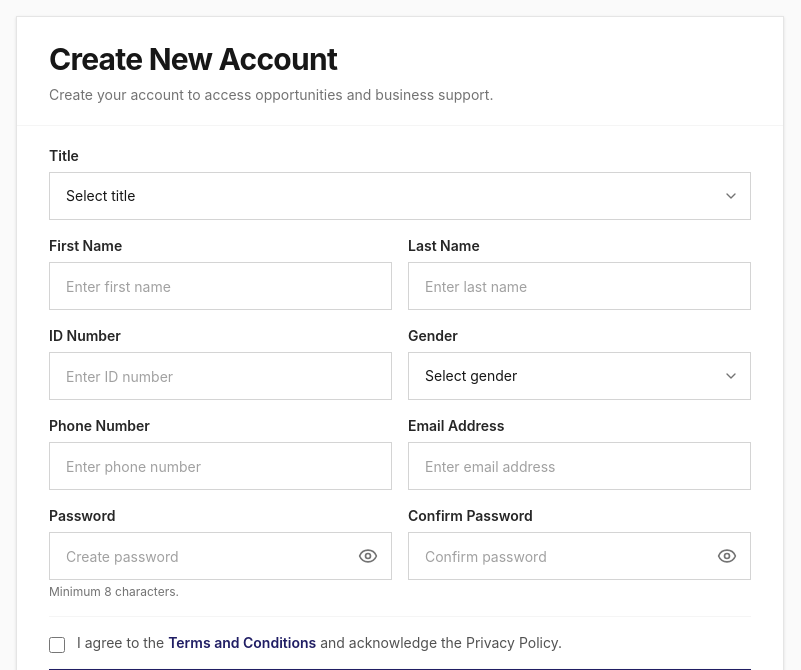
Test case: CreateAccount Component › should display a message when passwords match
Step 1. Type "Password123" into the password field labelled "Password" → (220, 556), box [49,532,392,580]
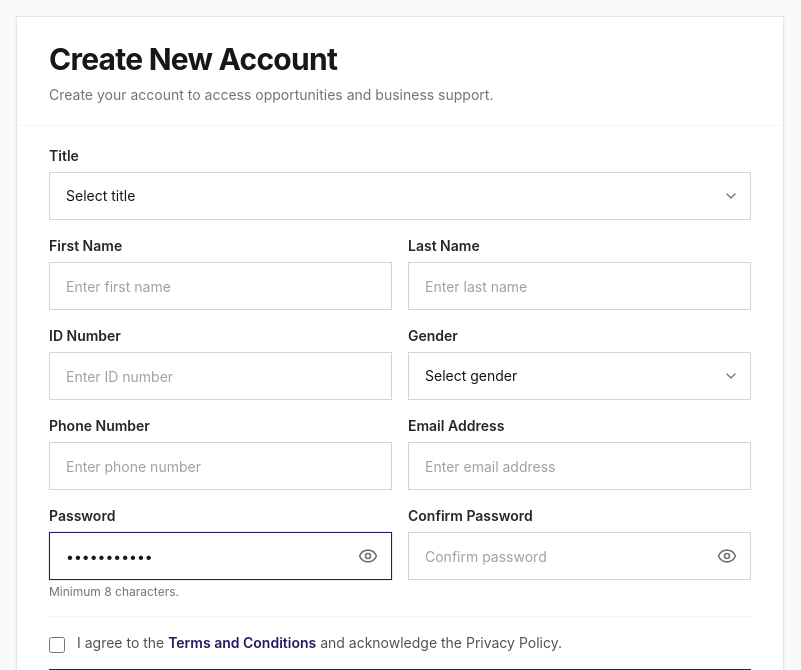
Step 2. Type "Password123" into the password field labelled "Confirm Password" → (580, 556), box [408,532,751,580]
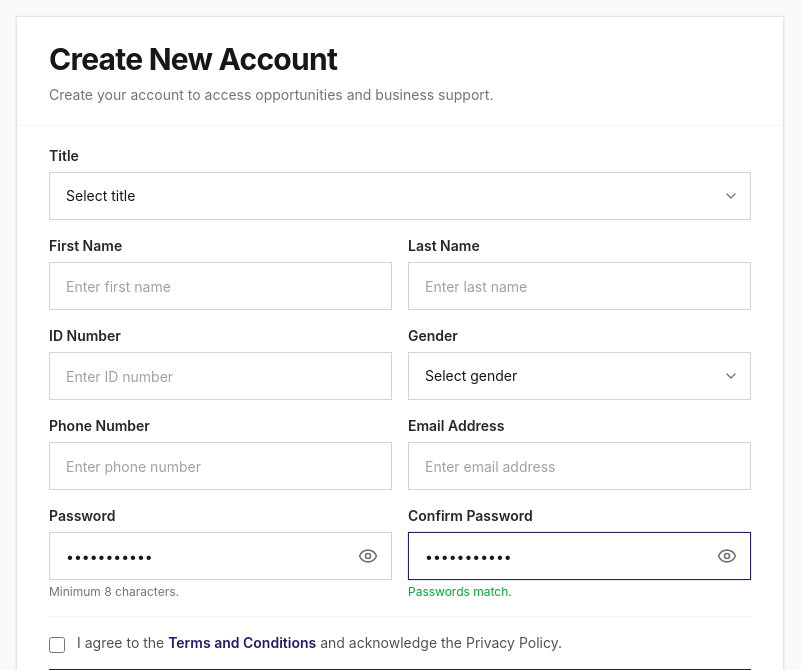
Expected: the text "Passwords match." is shown, [408,584,512,599]
